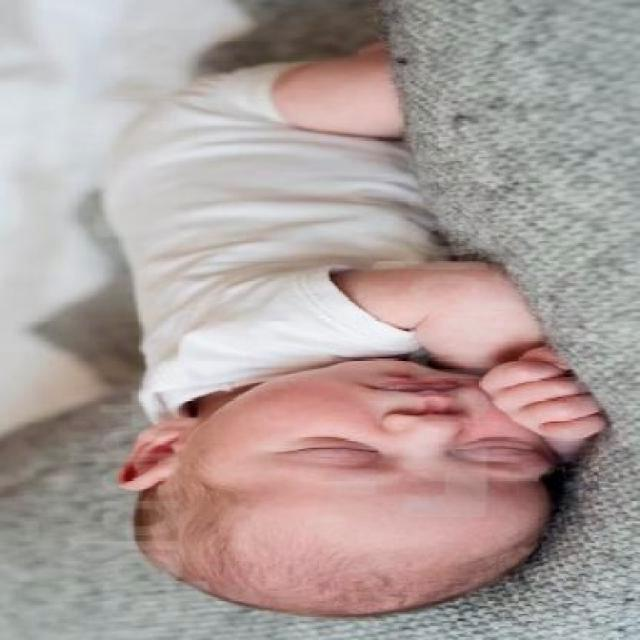child: (115, 54, 609, 622)
